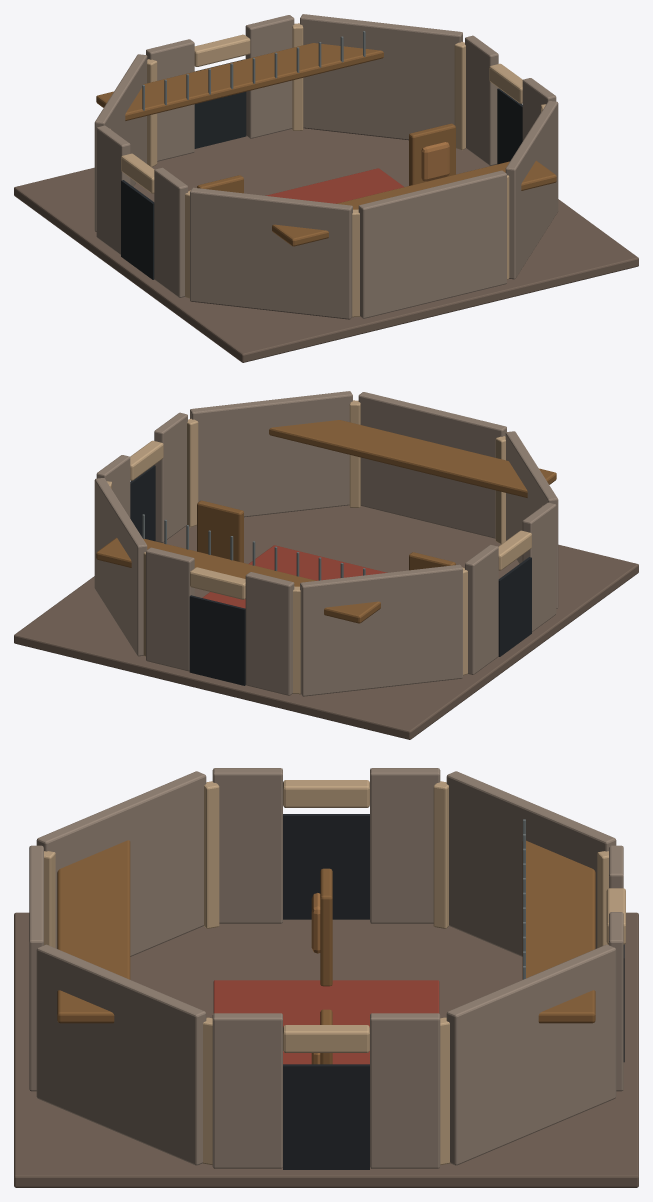
File: pendelhaven_guild_4170.glb
3 renders of one model, top to bottom at view 1: azimuth 30°, elevation 25°; view 2: azimuth 150°, elevation 25°; view 3: azimuth 270°, elevation 25°, orthographic. The views are drawn at different scales.
Visible parts, largest first — view 1: Room floor, SW solid wall, S solid wall, NE solid wall, Upper balcony, SE solid wall, N doorway right, W doorway left, E doorway left, N doorway left, W doorway right, NW solid wall (+17 smaller); view 2: Room floor, NW solid wall, SE solid wall, S solid wall, Upper balcony.001, NE solid wall, N doorway left, N doorway right, N passage shadow, W doorway right, E doorway right, Upper balcony (+16 smaller); view 3: Room floor, NE solid wall, SE solid wall, SW solid wall, NW solid wall, E doorway left, E doorway right, W doorway left, W doorway right, Upper balcony.001, Central sparring mat, E passage shadow (+15 smaller).
Boxes of the visible parts, <box> form: Room floor: <box>14,128,638,362</box>; SW solid wall: <box>190,187,352,319</box>; S solid wall: <box>358,170,506,318</box>; NE solid wall: <box>300,14,462,140</box>; Upper balcony: <box>96,43,383,120</box>; SE solid wall: <box>505,101,558,279</box>; N doorway right: <box>245,15,294,138</box>; W doorway left: <box>154,167,187,297</box>; E doorway left: <box>465,35,498,165</box>; N doorway left: <box>146,39,194,161</box>; W doorway right: <box>96,125,130,254</box>; NW solid wall: <box>94,54,147,231</box>; Room floor: <box>14,505,638,739</box>; NW solid wall: <box>300,564,462,696</box>; SE solid wall: <box>190,391,352,517</box>; S solid wall: <box>358,392,506,538</box>; Upper balcony.001: <box>269,420,556,497</box>; NE solid wall: <box>94,478,147,656</box>; N doorway left: <box>245,572,294,695</box>; N doorway right: <box>146,547,194,671</box>; N passage shadow: <box>189,595,245,685</box>; W doorway right: <box>465,544,498,674</box>; E doorway right: <box>154,412,187,542</box>; Upper balcony: <box>96,537,380,623</box>; Room floor: <box>14,912,638,1187</box>; NE solid wall: <box>446,944,616,1165</box>; SE solid wall: <box>36,944,206,1165</box>; SW solid wall: <box>36,771,206,956</box>; NW solid wall: <box>446,771,616,956</box>; E doorway left: <box>370,1013,440,1168</box>; E doorway right: <box>212,1013,282,1168</box>; W doorway left: <box>212,768,282,923</box>; W doorway right: <box>370,768,440,923</box>; Upper balcony.001: <box>57,840,130,1023</box>; Central sparring mat: <box>213,980,439,1064</box>; E passage shadow: <box>283,1064,369,1169</box>.
Bounding box in the file's own units: 18 × 5.2 × 18.
